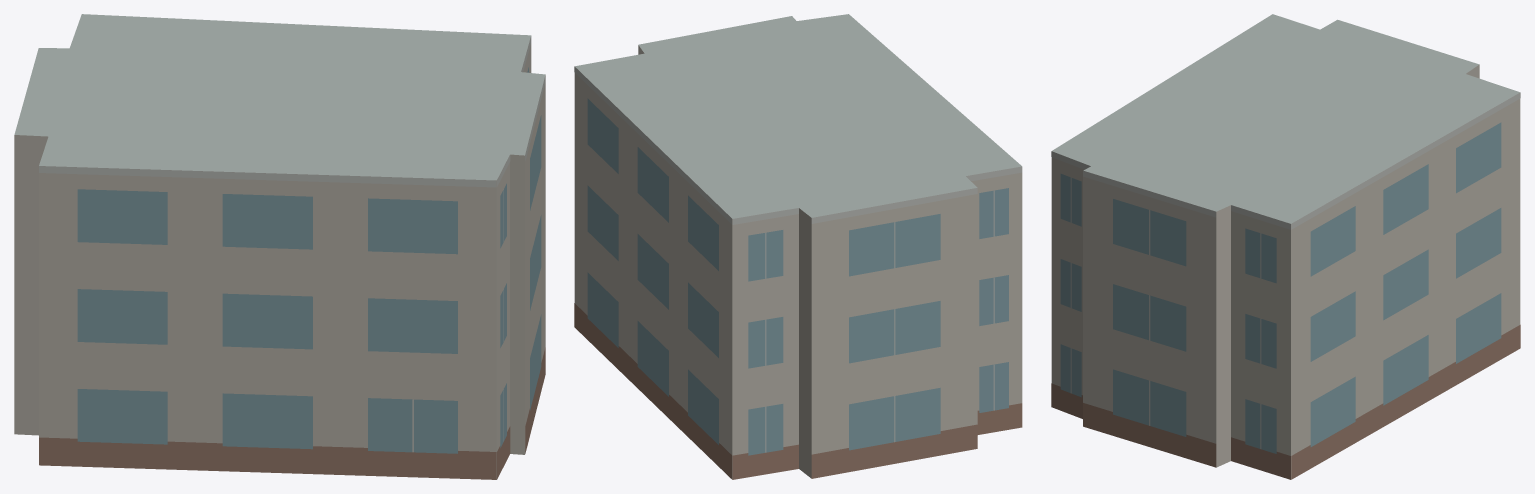
File: survey-upis-32690783.glb
The picture shows the model from 3 angles, left to right: view 1: azimuth 30°, elevation 25°; view 2: azimuth 150°, elevation 25°; view 3: azimuth 270°, elevation 25°; orthographic projection. The views are drawn at different scales.
Parts seen in each view (by area): view 1: survey-upis-32690783.tmp; view 2: survey-upis-32690783.tmp; view 3: survey-upis-32690783.tmp.
Part boxes in pixels (x1=…): survey-upis-32690783.tmp: x1=14, y1=14, x2=545, y2=479; survey-upis-32690783.tmp: x1=574, y1=14, x2=1022, y2=479; survey-upis-32690783.tmp: x1=1051, y1=14, x2=1520, y2=479.
Bounding box in the file's own units: 18.3 × 10.4 × 17.28.
